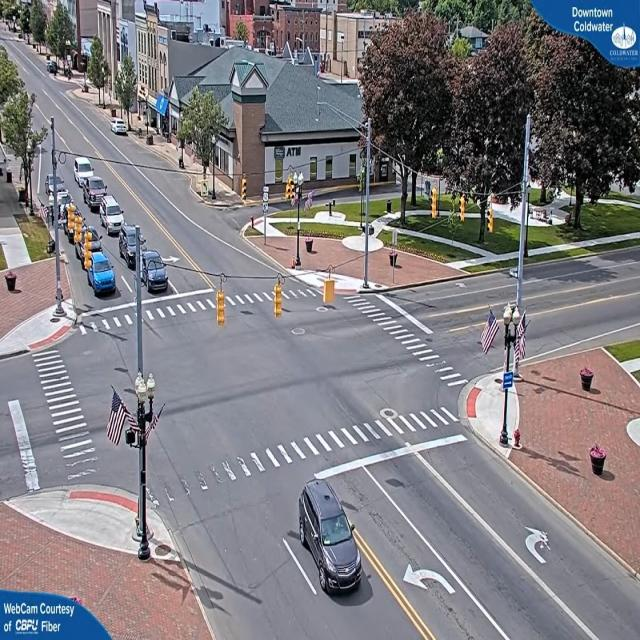car: (295, 482, 361, 602), (84, 250, 118, 297), (141, 248, 170, 292), (98, 196, 126, 238), (120, 227, 140, 266), (112, 121, 130, 138)
